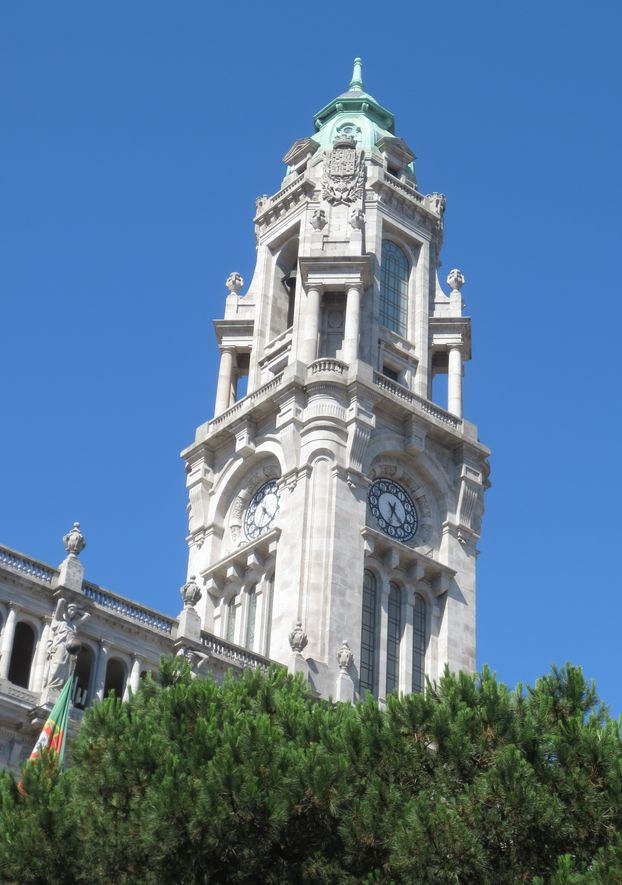camara: (0, 57, 493, 756)
